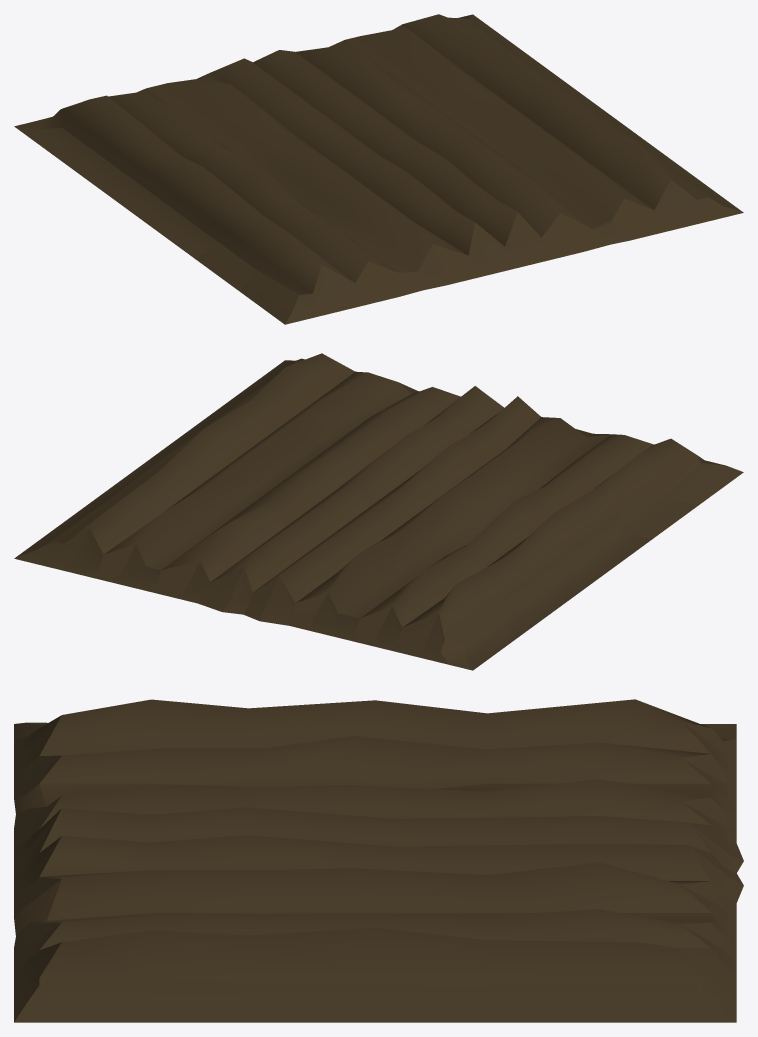
File: terre.FBX
The picture shows the model from 3 angles, top to bottom: view 1: azimuth 30°, elevation 25°; view 2: azimuth 150°, elevation 25°; view 3: azimuth 270°, elevation 25°; orthographic projection. The views are drawn at different scales.
Visible parts, largest first — view 1: Terre; view 2: Terre; view 3: Terre.
Boxes of the visible parts, x1,y1,x2,y2 form: Terre: [14, 14, 743, 324]; Terre: [14, 353, 743, 670]; Terre: [14, 699, 743, 1022].
Size of the model in its own units: 208 by 19.65 by 215.
